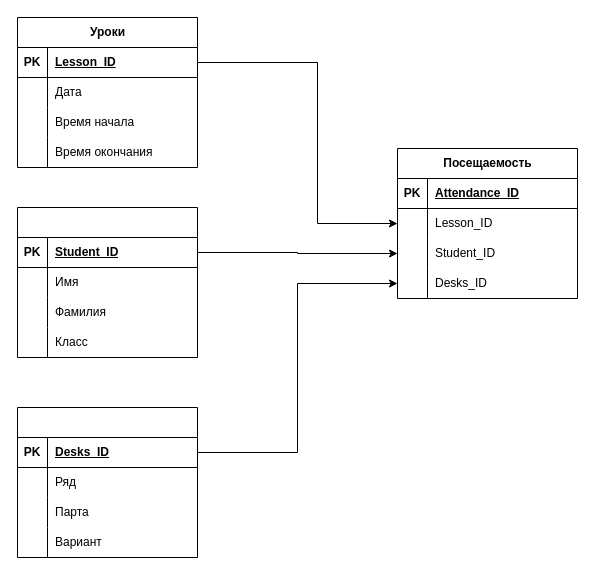
Image size: 595x575. Some labels were removed from this diagram. The box of each missing label's shape, as (x1, y1, x2, y2) in pixels:
Парты: (16, 406, 198, 558)
Ученики: (16, 206, 198, 358)
